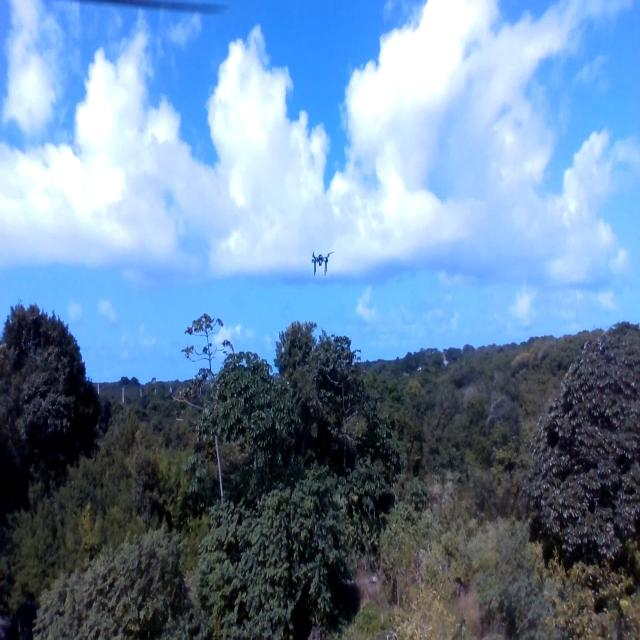-uav-: (310, 246, 335, 277)
